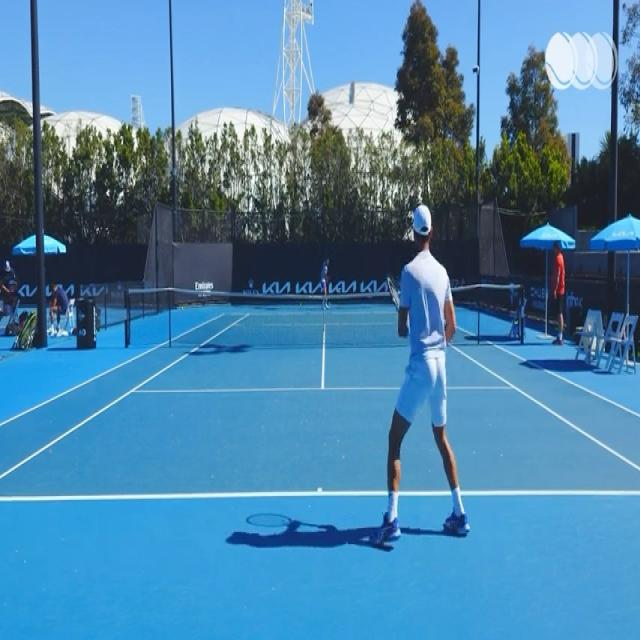ready-position: (382, 202, 469, 540)
